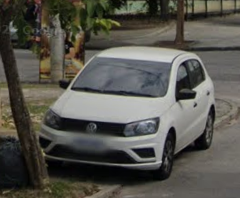car: (38, 46, 216, 180)
